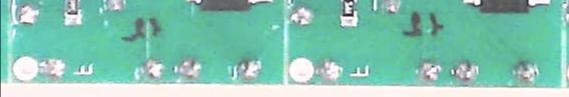chip-resistor: (60, 0, 83, 27), (338, 0, 360, 28)
